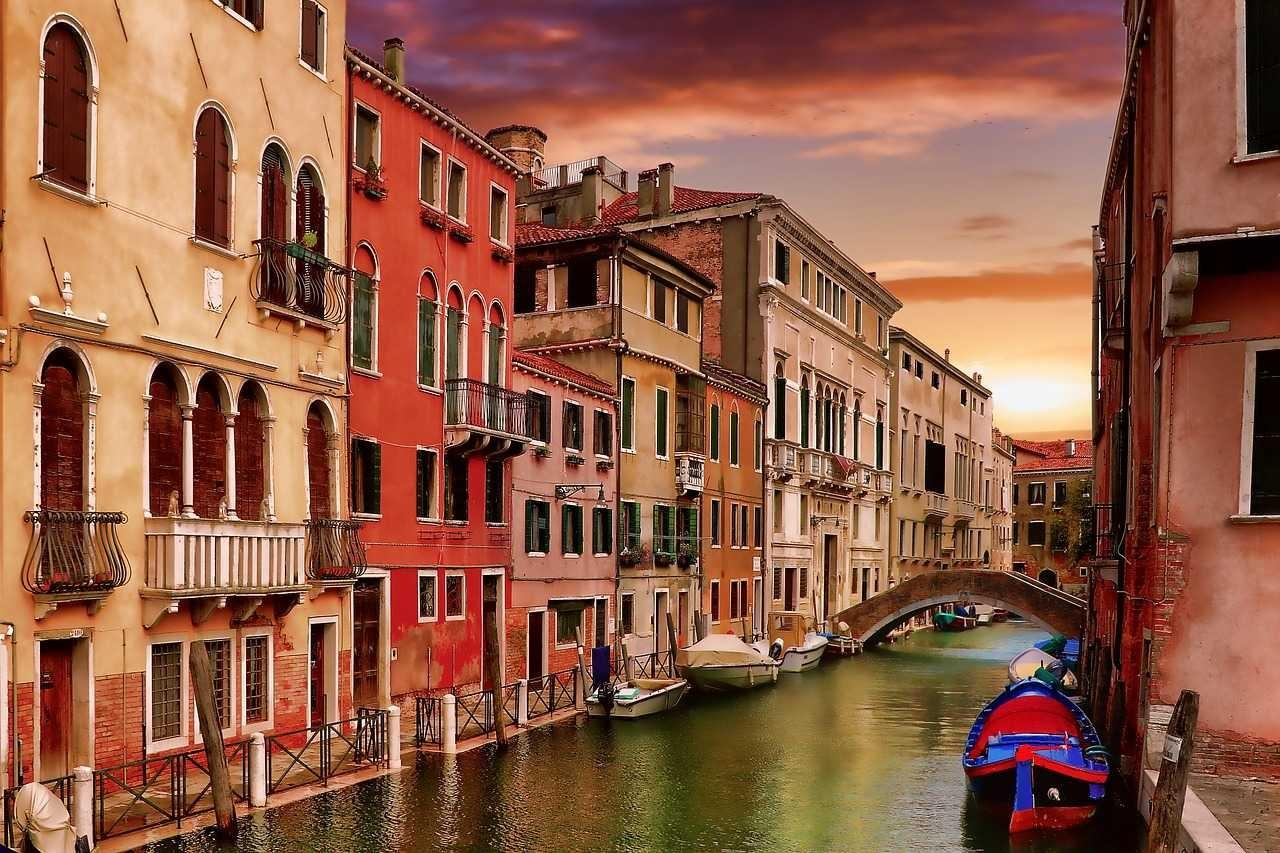kayak: (961, 644, 1111, 834), (680, 632, 780, 692), (587, 672, 690, 718), (770, 610, 828, 673), (815, 623, 862, 656), (932, 606, 978, 631)
